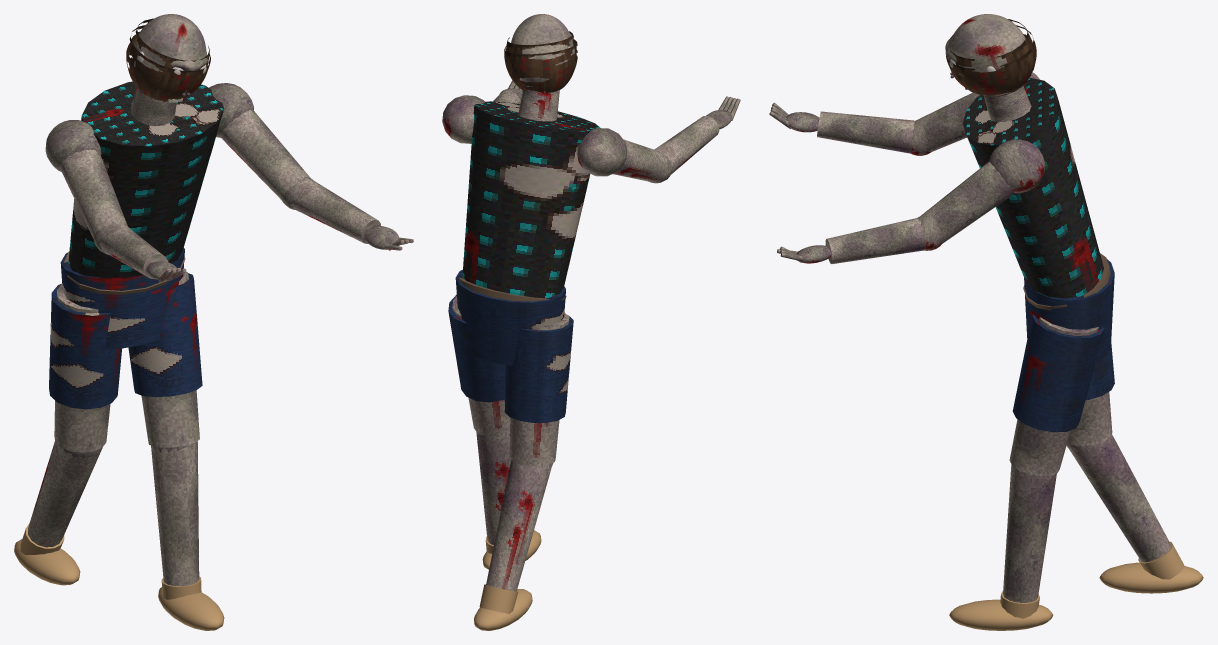
Rendered from Zombie_020.glb.
The picture shows the model from 3 angles, left to right: view 1: azimuth 30°, elevation 25°; view 2: azimuth 150°, elevation 25°; view 3: azimuth 270°, elevation 25°; orthographic projection. The views are drawn at different scales.
Parts seen in each view (by area): view 1: Zombie_020, object 16, object 10, object 42, object 3, object 41, object 11; view 2: Zombie_020, object 16, object 42, object 3, object 41; view 3: Zombie_020, object 16, object 10, object 3, object 42, object 41.
Boxes of the visible parts, <box> form: Zombie_020: <box>14,81,309,630</box>; object 16: <box>132,14,207,92</box>; object 10: <box>290,179,380,243</box>; object 42: <box>126,25,210,101</box>; object 3: <box>99,223,168,278</box>; object 41: <box>128,18,209,79</box>; object 11: <box>364,226,399,249</box>; Zombie_020: <box>442,85,668,630</box>; object 16: <box>511,14,574,86</box>; object 42: <box>504,39,577,93</box>; object 3: <box>654,116,719,174</box>; object 41: <box>506,31,576,86</box>; Zombie_020: <box>914,72,1203,630</box>; object 16: <box>945,14,1025,76</box>; object 10: <box>825,218,925,263</box>; object 3: <box>817,111,914,153</box>; object 42: <box>945,25,1036,96</box>; object 41: <box>948,19,1032,80</box>.
Size of the model in its own units: 0.8358 by 1.94 by 1.27.
16 materials, 6 textured.
